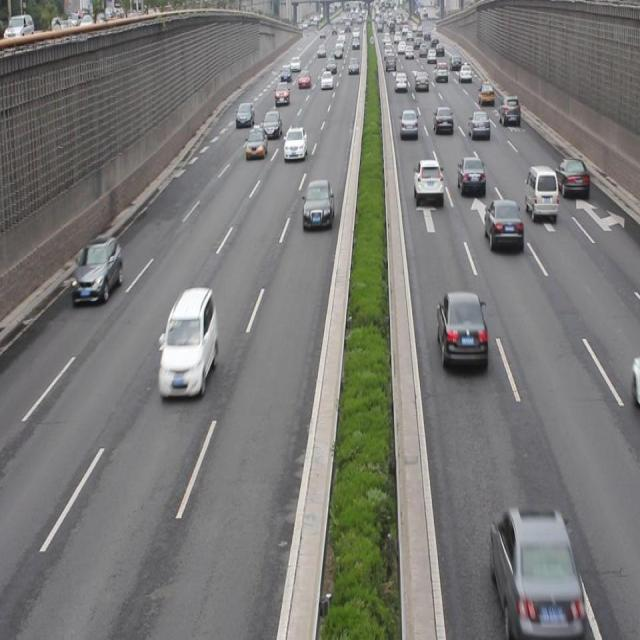car: (488, 505, 583, 640), (160, 286, 217, 396), (433, 288, 488, 366), (72, 238, 124, 302), (481, 197, 522, 251), (302, 178, 334, 229), (412, 158, 443, 204), (556, 154, 588, 198), (456, 154, 484, 197), (282, 124, 306, 160), (467, 110, 490, 142), (398, 106, 420, 138), (497, 93, 519, 125), (245, 126, 267, 158), (432, 104, 453, 136), (261, 108, 281, 140), (235, 100, 255, 128)
truck: (523, 163, 557, 221)
